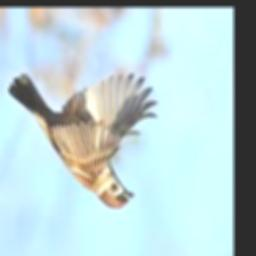Sparrow: (9, 72, 158, 209)
